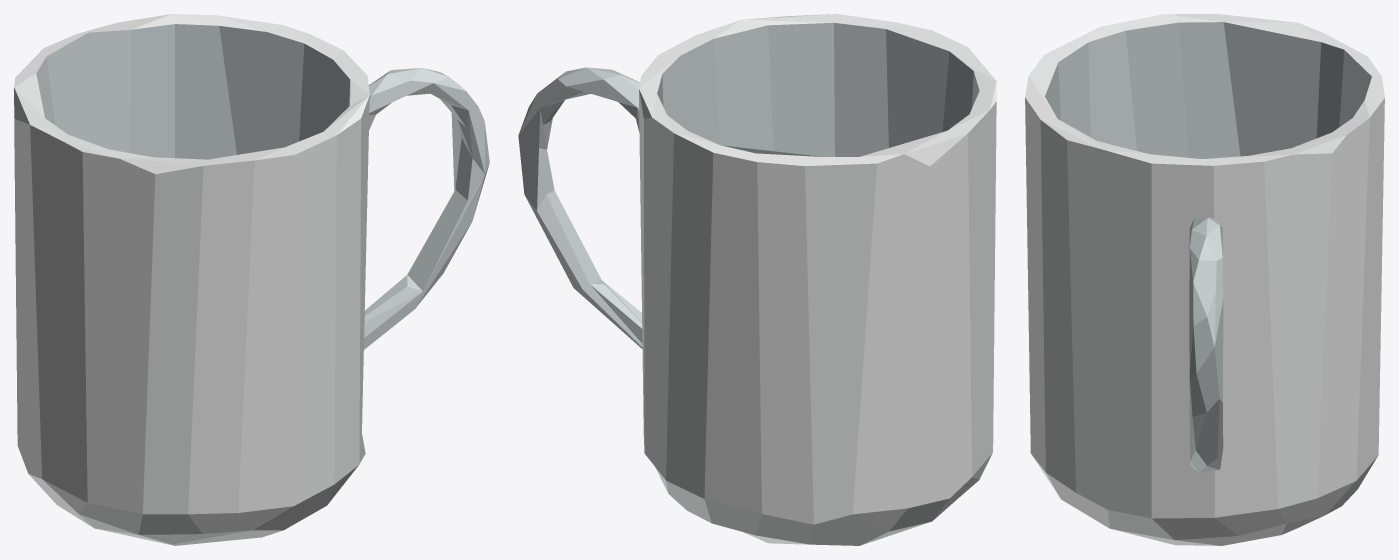
File: Cup01White.fbx
3 renders of one model, left to right at view 1: azimuth 30°, elevation 25°; view 2: azimuth 150°, elevation 25°; view 3: azimuth 270°, elevation 25°, orthographic.
Parts seen in each view (by area): view 1: Cup01LowPolyWhite; view 2: Cup01LowPolyWhite; view 3: Cup01LowPolyWhite.
Part boxes in pixels (x1,y1,x2,y2): Cup01LowPolyWhite: [14, 14, 489, 545]; Cup01LowPolyWhite: [518, 14, 996, 545]; Cup01LowPolyWhite: [1025, 14, 1384, 545].
Bounding box in the file's own units: 11.35 × 9.93 × 7.83.
